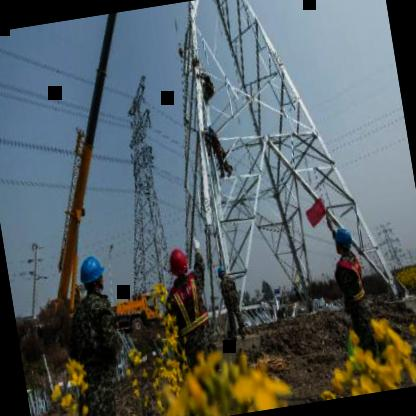helmet: (76, 251, 112, 301), (328, 220, 358, 262), (165, 244, 193, 284)
